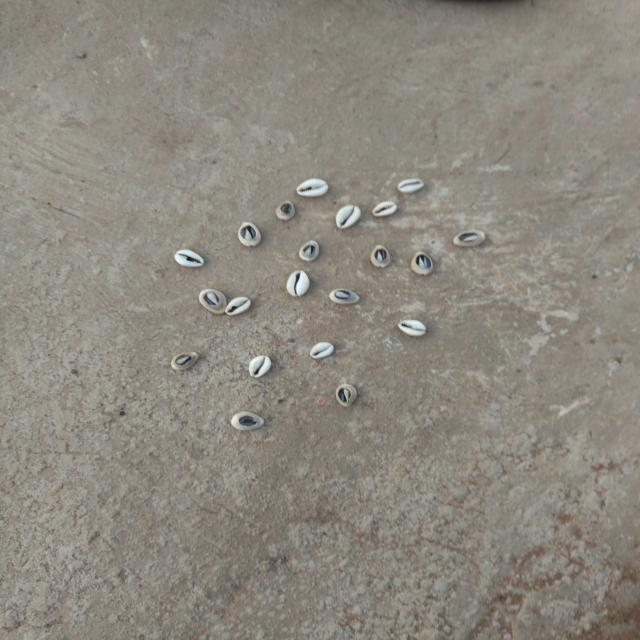facedown: (229, 410, 270, 432), (198, 288, 230, 316), (409, 249, 438, 278), (236, 221, 266, 249), (368, 242, 396, 272), (327, 286, 367, 307), (448, 228, 489, 248), (332, 380, 359, 410), (168, 350, 202, 371), (296, 238, 323, 264), (274, 199, 298, 222)
faceup: (172, 247, 210, 271), (294, 176, 334, 198), (332, 202, 363, 230), (284, 268, 312, 299), (394, 318, 434, 339), (245, 353, 275, 379), (308, 339, 338, 361), (369, 199, 401, 219), (226, 296, 254, 318), (397, 178, 427, 194)
